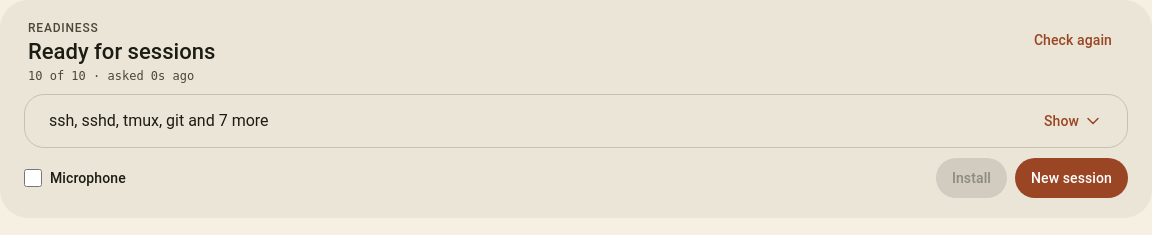
Scenario: the Readiness card › enables Install on a ready machine only while Microphone is ticked
Expected: the heading "Ready for sessions" is shown, [28, 38, 215, 66]
Expected: the button "Install" is disabled, [936, 158, 1007, 198]
Click the checkbox labelled "Microphone".
click(33, 178)  # box [24, 169, 42, 187]
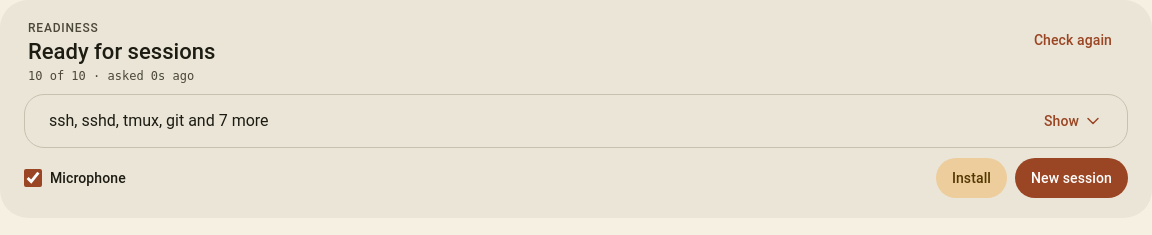
Expected: the button "Install" is enabled, [936, 158, 1007, 198]
Click the checkbox labelled "Microphone".
click(33, 178)  # box [24, 169, 42, 187]
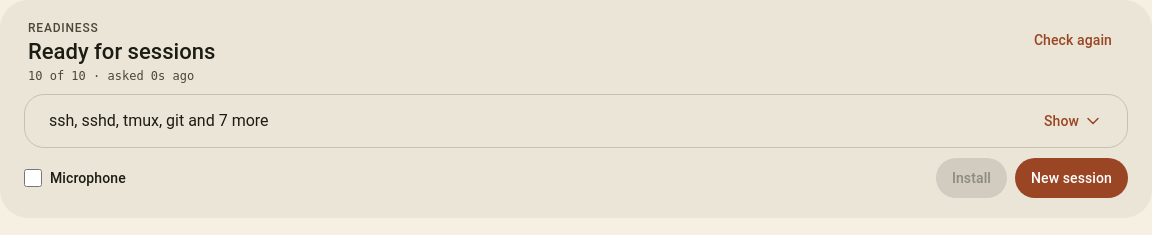
Expected: the button "Install" is disabled, [936, 158, 1007, 198]
